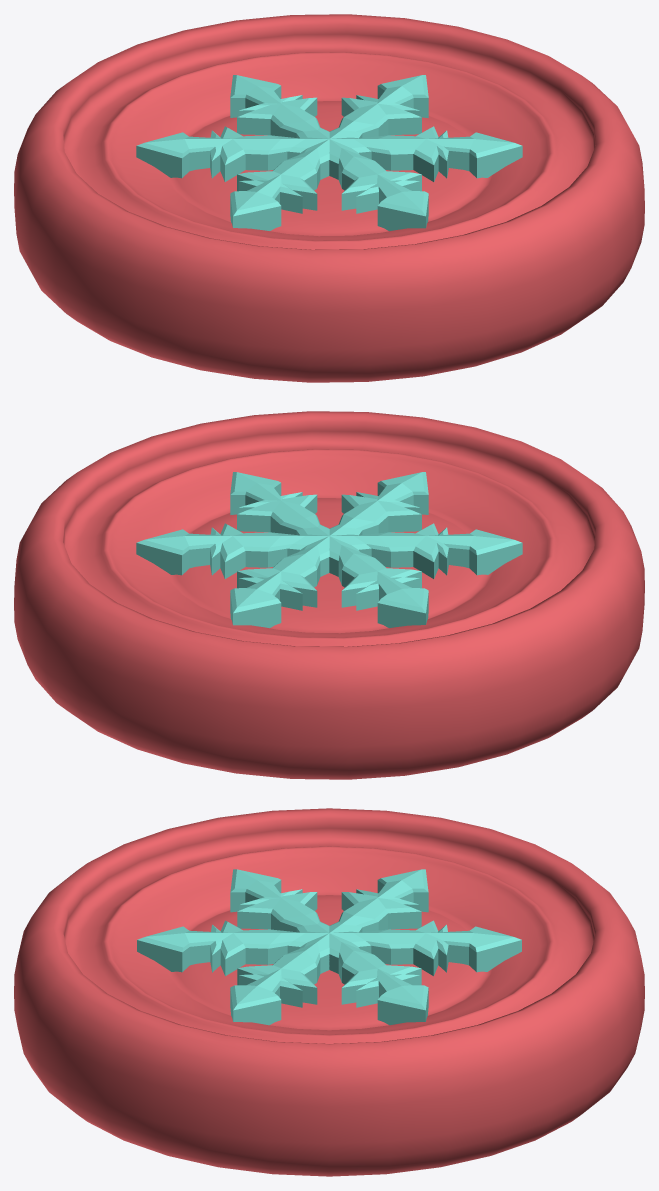
File: Symbols_3.fbx
3 renders of one model, top to bottom at view 1: azimuth 30°, elevation 25°; view 2: azimuth 150°, elevation 25°; view 3: azimuth 270°, elevation 25°, orthographic.
Visible parts, largest first — view 1: Pickup, Freeze; view 2: Pickup, Freeze; view 3: Pickup, Freeze.
Part boxes in pixels (left/top/right/bottom): Pickup: left=14, top=14, right=644, bottom=382; Freeze: left=136, top=75, right=522, bottom=231; Pickup: left=14, top=411, right=644, bottom=779; Freeze: left=136, top=472, right=522, bottom=628; Pickup: left=14, top=808, right=644, bottom=1176; Freeze: left=137, top=869, right=521, bottom=1025.
Bounding box in the file's own units: 64.33 × 14.58 × 64.33.
